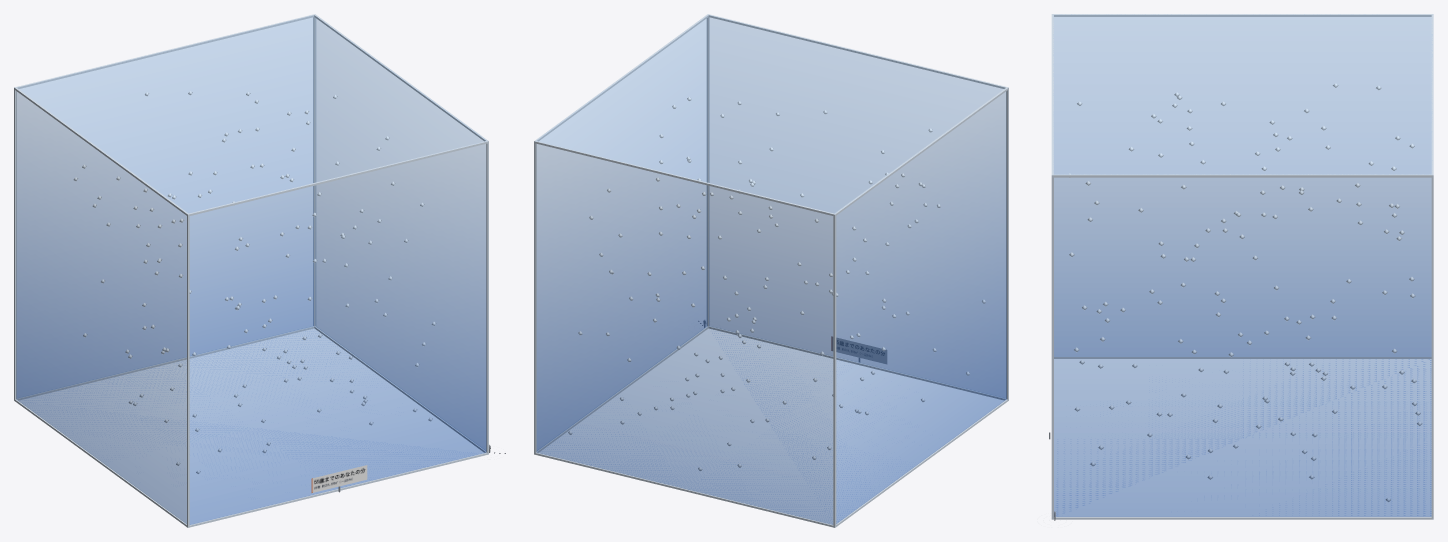
Rendered from cube_life_55.glb.
The picture shows the model from 3 angles, left to right: view 1: azimuth 30°, elevation 25°; view 2: azimuth 150°, elevation 25°; view 3: azimuth 270°, elevation 25°; orthographic projection. The views are drawn at different scales.
Visible parts, largest first — view 1: co2, edge, dots, label; view 2: co2, edge, dots, label; view 3: co2, edge, dots.
Part boxes in pixels (<box>): co2: <box>16,15,486,524</box>; edge: <box>14,14,488,527</box>; dots: <box>73,91,435,474</box>; label: <box>311,465,367,492</box>; co2: <box>536,15,1006,524</box>; edge: <box>534,14,1008,527</box>; dots: <box>568,96,985,471</box>; label: <box>831,336,886,363</box>; co2: <box>1053,14,1432,516</box>; edge: <box>1051,14,1433,519</box>; dots: <box>1069,83,1422,502</box>.
Bounding box in the file's own units: 67.98 × 64.22 × 67.08.
8 materials, 3 textured.
